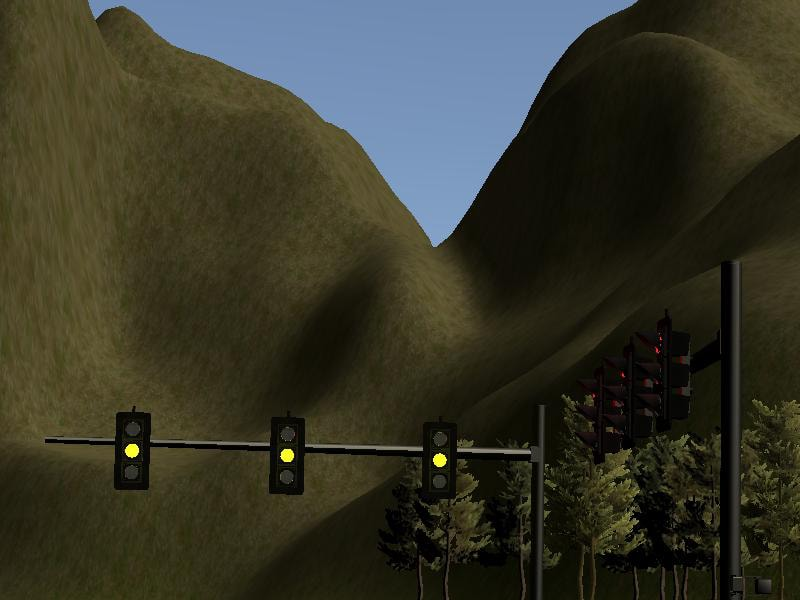yellow: (114, 411, 151, 491), (268, 416, 305, 496), (420, 422, 457, 502)
